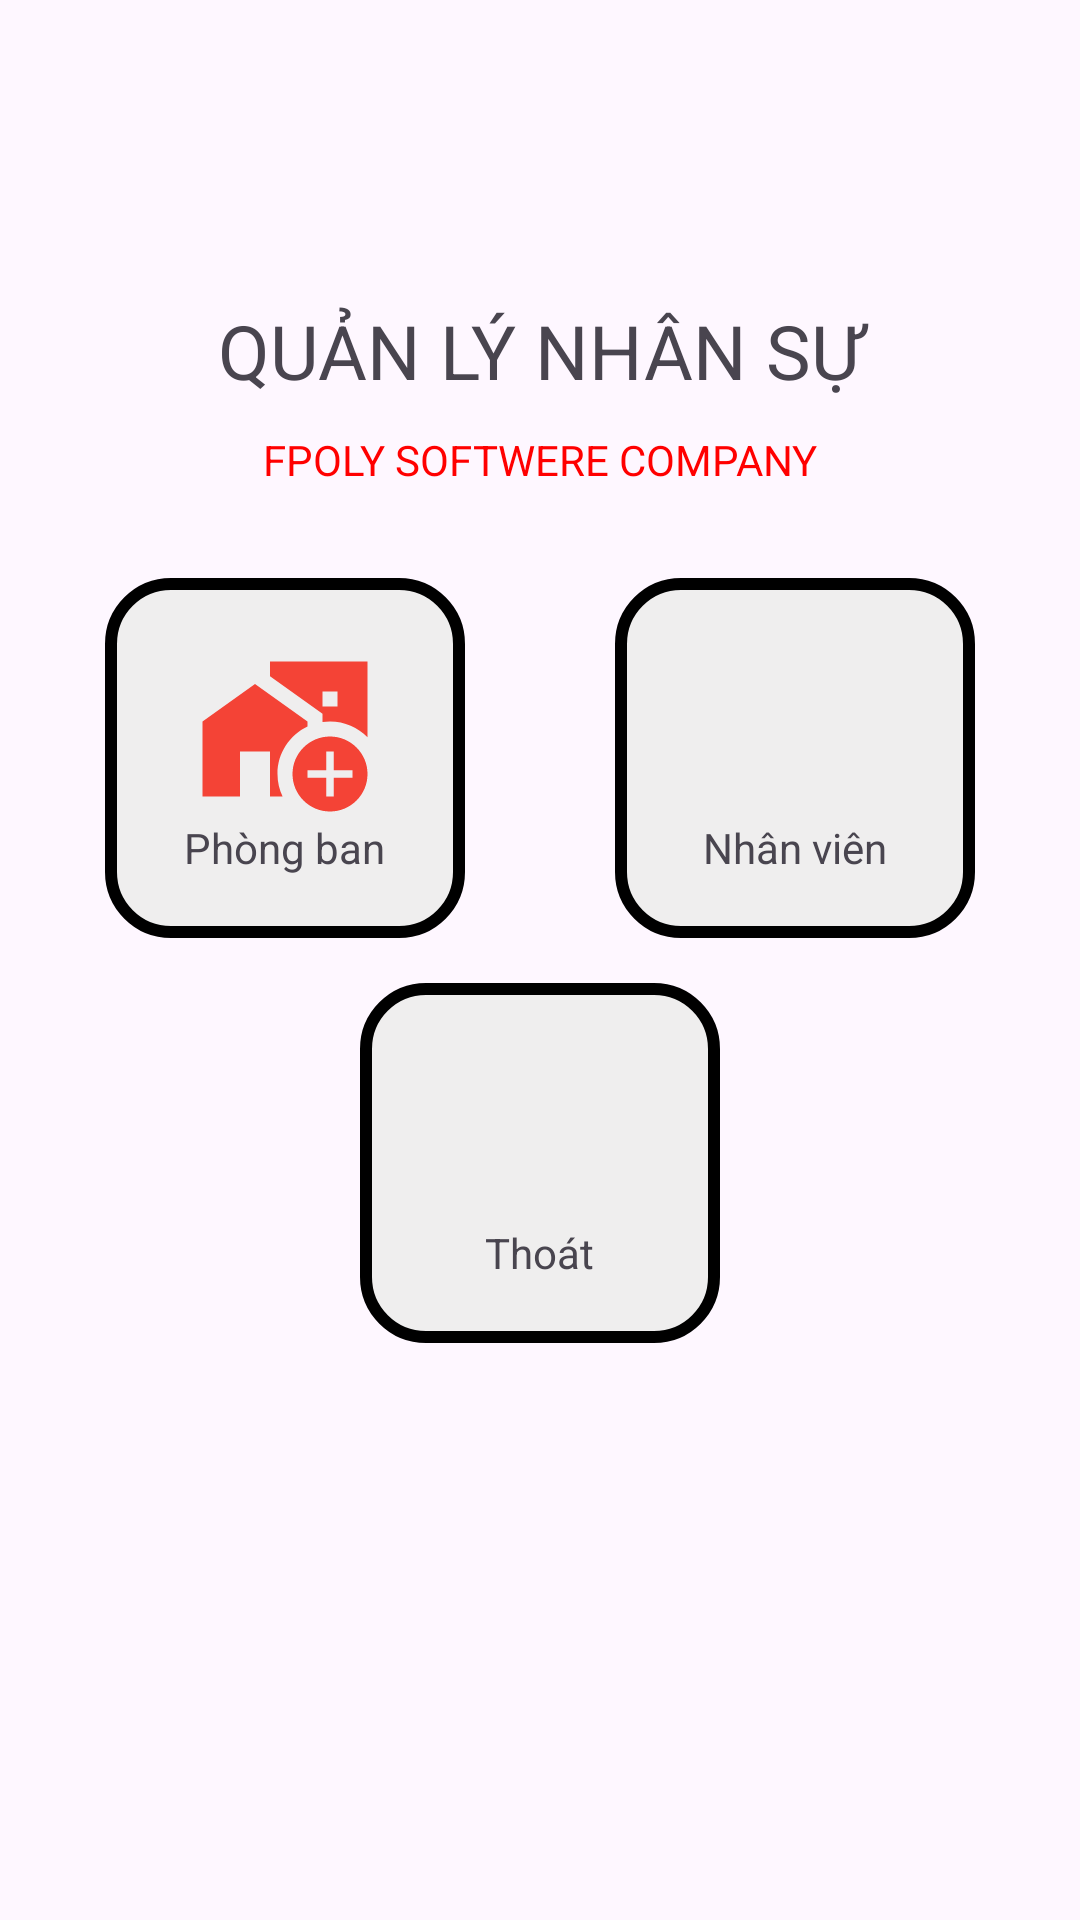

Named icons in this screenshot (1080px x 1920px) and their bounding boxes, (x1, y1, x2, y2):
add home work: (202, 661, 368, 812)
